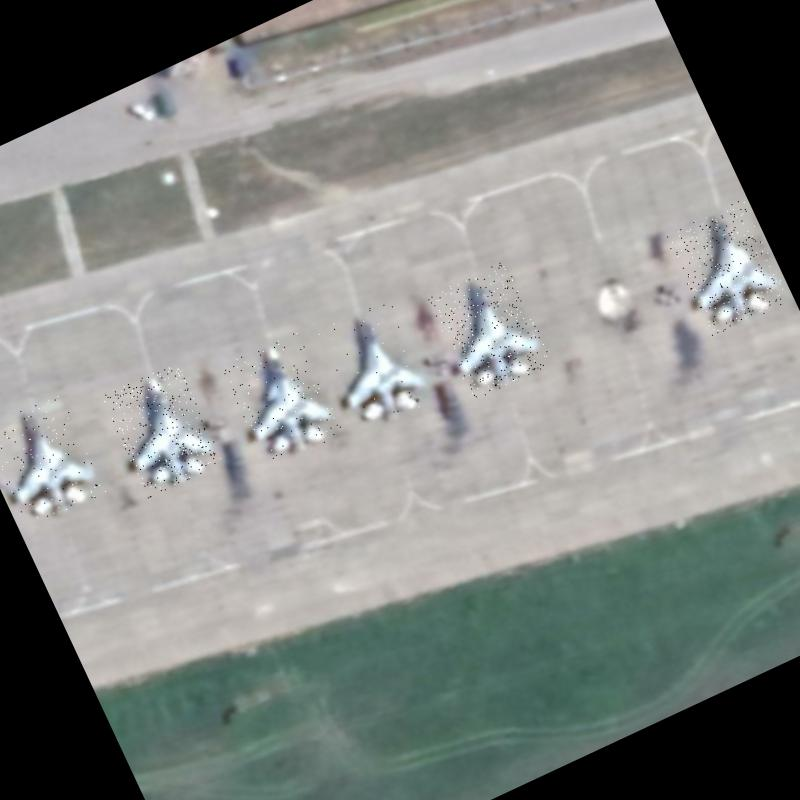A1: (424, 259, 554, 400), (664, 199, 791, 338), (312, 296, 437, 434), (101, 361, 224, 498), (0, 391, 108, 528)
A19: (218, 329, 345, 470)
